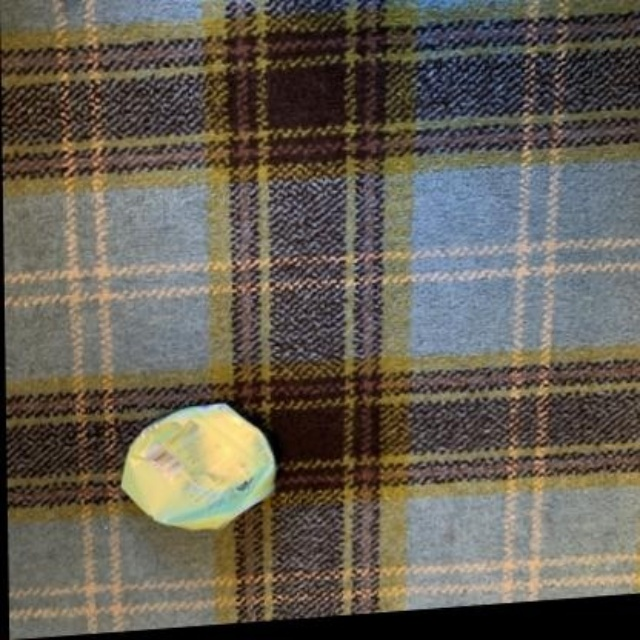trash: (122, 403, 275, 529)
